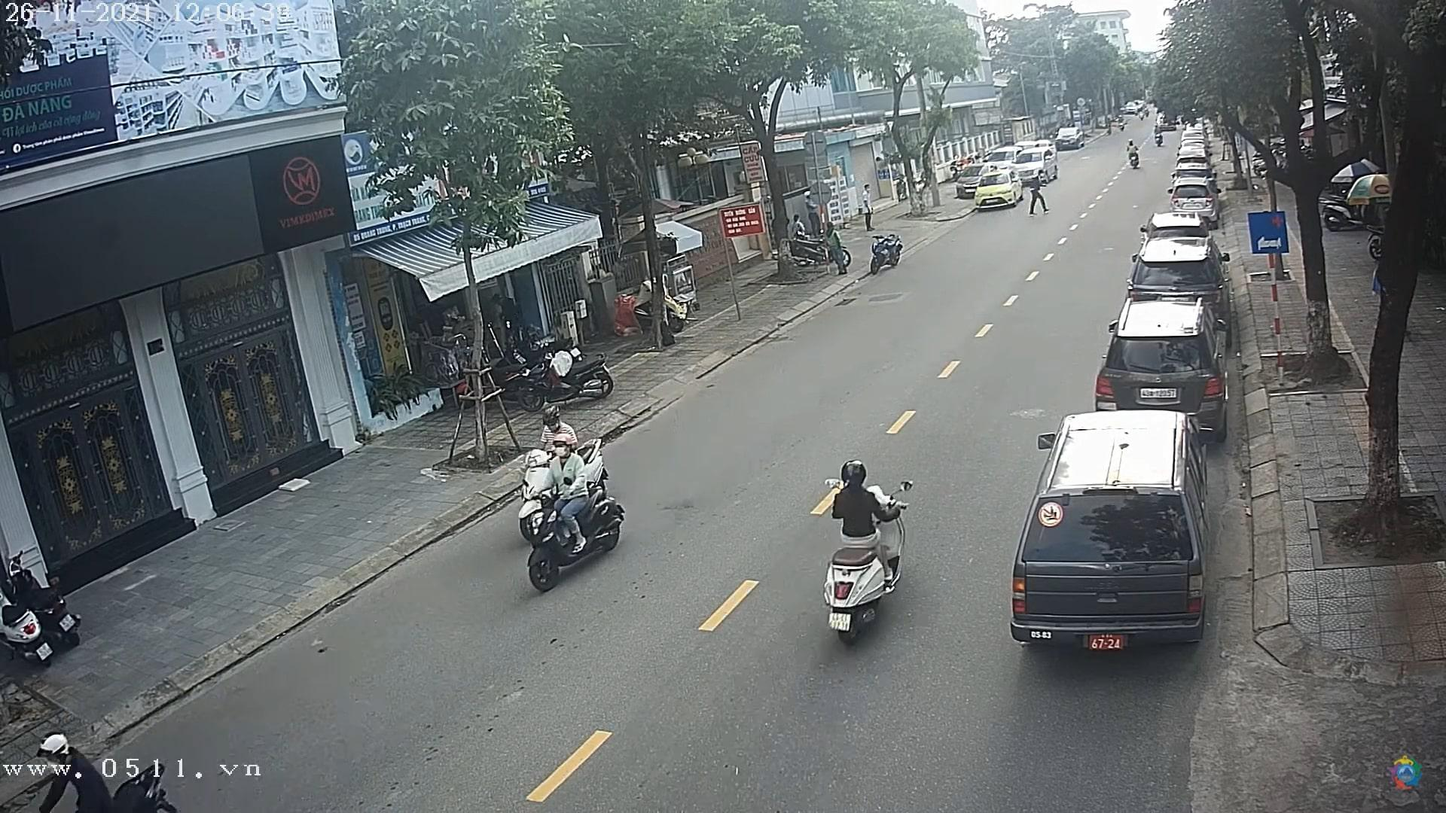car: (1010, 415, 1202, 649), (1097, 297, 1225, 421), (1129, 237, 1229, 300), (1167, 166, 1214, 190), (1056, 125, 1089, 149)
motorbike: (515, 473, 627, 596), (818, 507, 911, 651)
